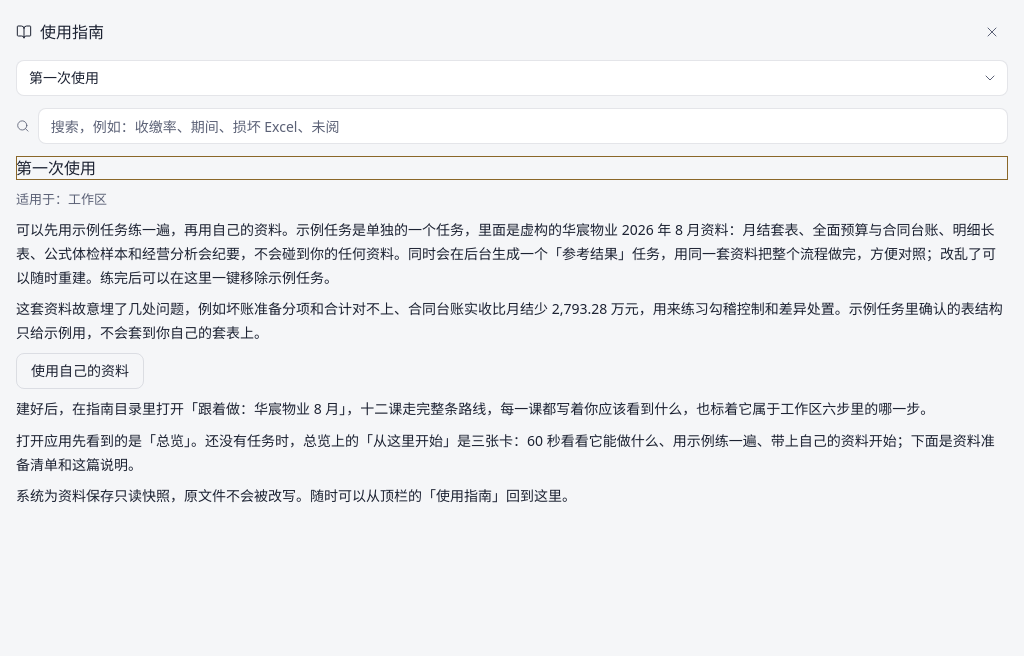
Test: lists search hits above the article and moves to the one picked
Type "归档" into the field named "搜索使用指南" at point(523, 126), box x1=38 y1=108 x2=1008 y2=144
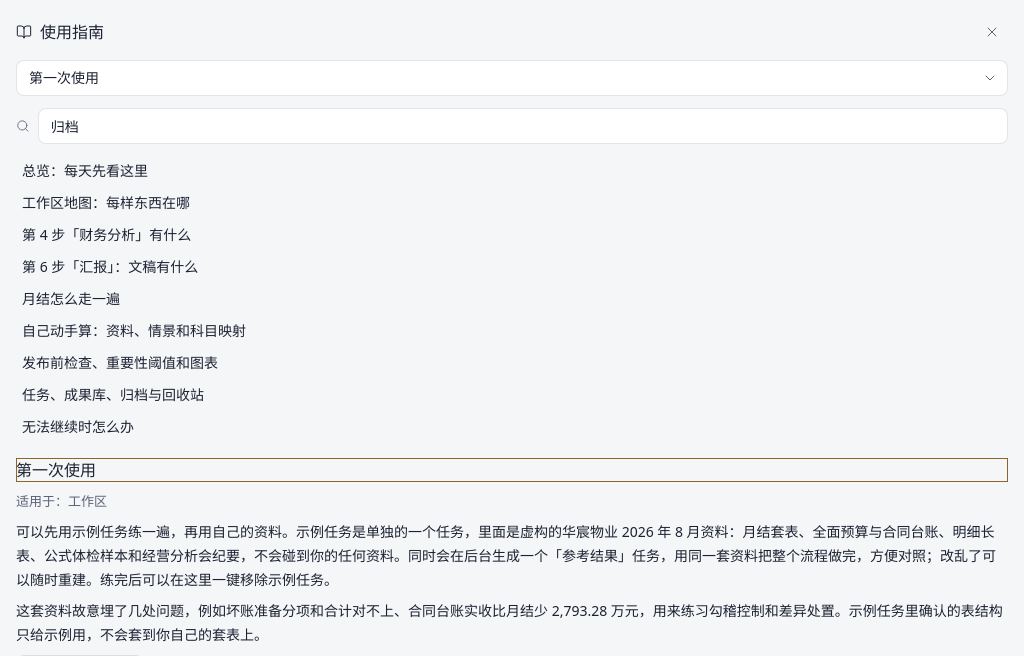
Click the button "无法继续时怎么办" at point(78, 426), box x1=16 y1=412 x2=1008 y2=442
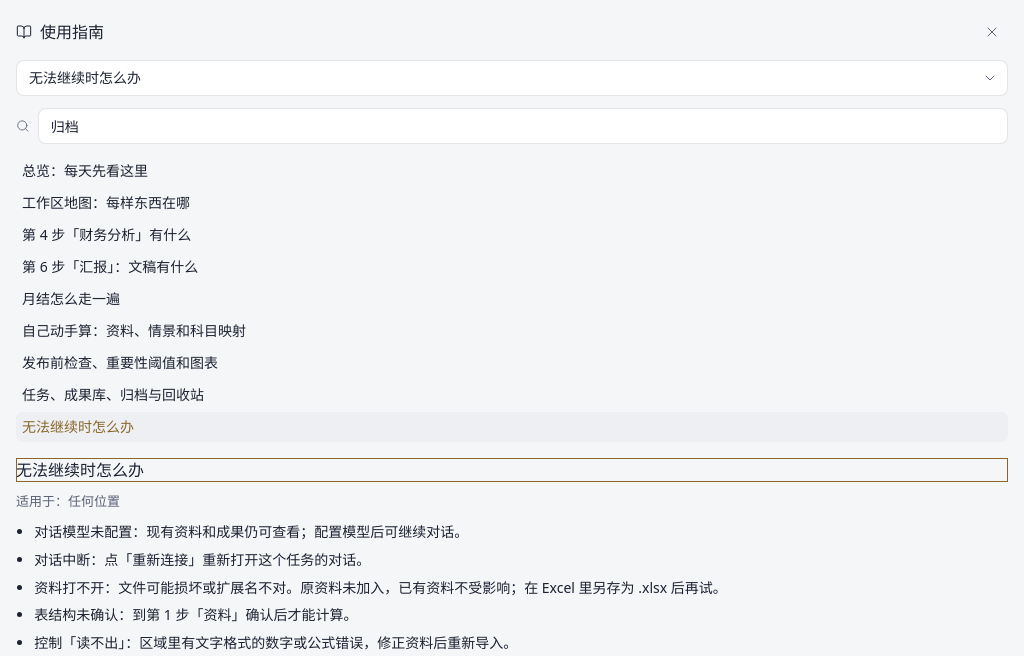
Check: the dropdown named "指南目录" shows "无法继续时怎么办", box x1=16 y1=60 x2=1008 y2=96
